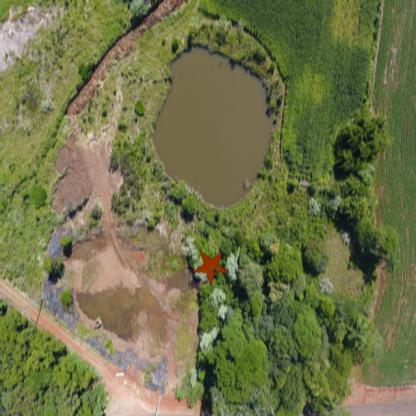3: (209, 262, 223, 274)
star: (193, 250, 229, 286)
